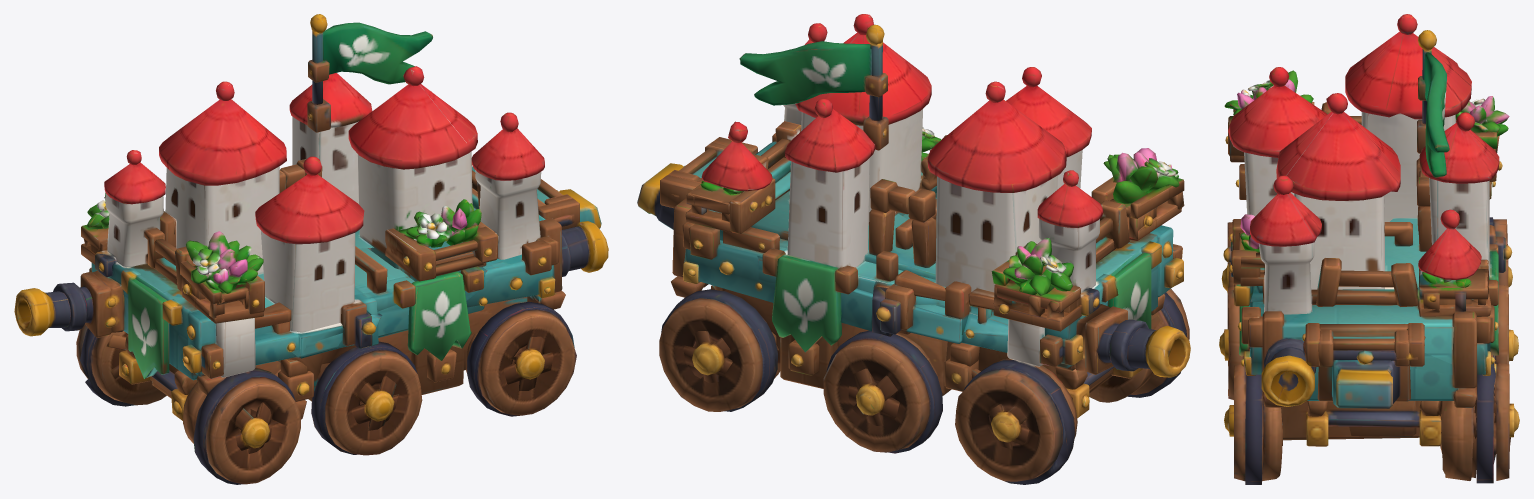
File: castle-large.glb
3 renders of one model, left to right at view 1: azimuth 30°, elevation 25°; view 2: azimuth 150°, elevation 25°; view 3: azimuth 270°, elevation 25°, orthographic. The views are drawn at different scales.
Size of the model in its own units: 0.9565 by 0.6313 by 0.4438.
1 material, 1 textured.
